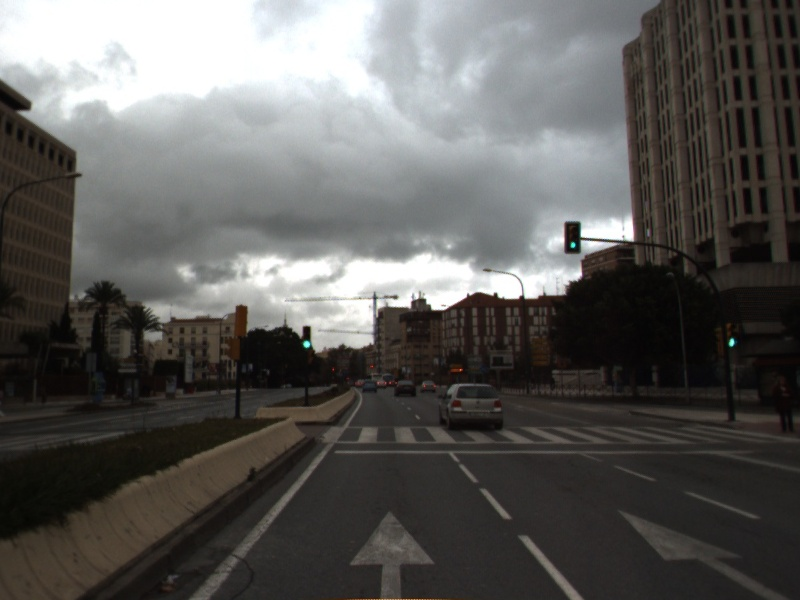STRAIGHT: (613, 505, 790, 600), (345, 505, 441, 600)
